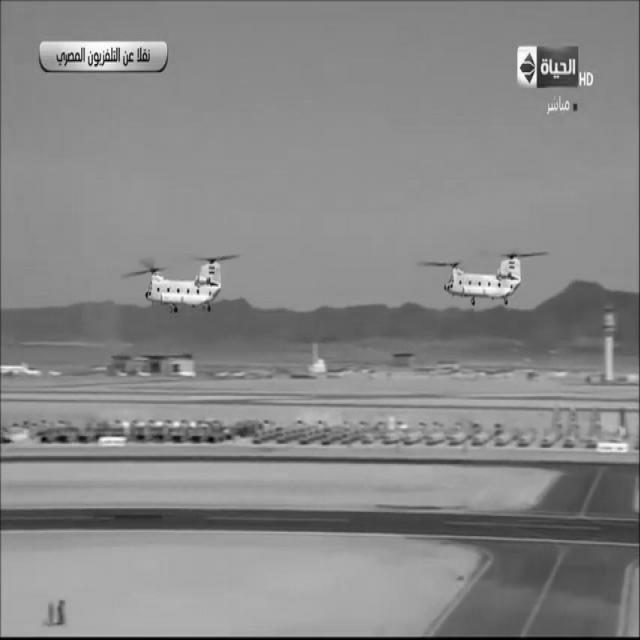helikopter: (433, 233, 545, 329), (128, 242, 238, 330)
